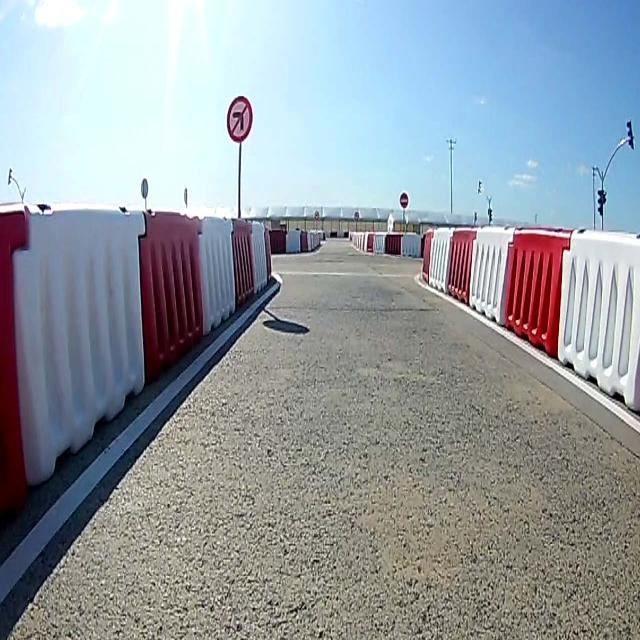girisyok: (399, 192, 408, 209)
soladonulmez: (226, 95, 252, 143)
